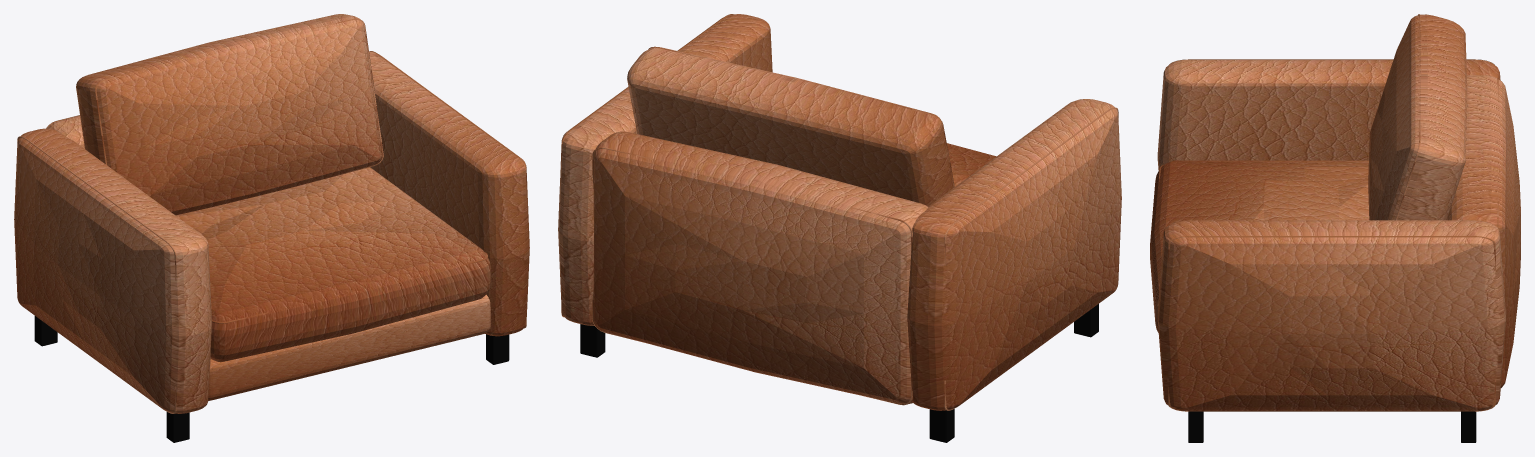
The model's file is Armchair.obj.
3 renders of one model, left to right at view 1: azimuth 30°, elevation 25°; view 2: azimuth 150°, elevation 25°; view 3: azimuth 270°, elevation 25°, orthographic. The views are drawn at different scales.
Parts seen in each view (by area): view 1: fotel_Cube_7, fotel_Cube2, fotel_Cube_2, fotel_Cube_3, fotel_Cube_4, fotel_Cube_14_Cube_12, fotel_Cube_14, fotel_Cube_7_Cube5, fotel_Cube_5, fotel_Cube_14_Cube_13; view 2: fotel_Cube_5, fotel_Cube_2, fotel_Cube_7, fotel_Cube_3, fotel_Cube2, fotel_Cube_14_Cube_13, fotel_Cube_14_Cube_15, fotel_Cube_2_Cube4, fotel_Cube_14_Cube_12, fotel_Cube_5_Cube; view 3: fotel_Cube_3, fotel_Cube_2, fotel_Cube_7, fotel_Cube2, fotel_Cube_5, fotel_Cube_3_Cube1, fotel_Cube_14, fotel_Cube_14_Cube_15.
Part boxes in pixels (x1,y1,x2,y2): fotel_Cube_7: (76,14,382,215); fotel_Cube2: (176,167,490,362); fotel_Cube_2: (14,128,211,413); fotel_Cube_3: (369,51,529,336); fotel_Cube_4: (208,294,490,400); fotel_Cube_14_Cube_12: (166,412,189,442); fotel_Cube_14: (486,334,509,364); fotel_Cube_7_Cube5: (95,18,383,175); fotel_Cube_5: (47,115,84,148); fotel_Cube_14_Cube_13: (34,316,57,346); fotel_Cube_5: (593,131,928,403); fotel_Cube_2: (907,99,1121,410); fotel_Cube_7: (627,47,953,206); fotel_Cube_3: (558,14,772,325); fotel_Cube2: (946,143,996,186); fotel_Cube_14_Cube_13: (929,408,954,442); fotel_Cube_14_Cube_15: (580,324,605,357); fotel_Cube_2_Cube4: (944,107,1118,410); fotel_Cube_14_Cube_12: (1074,304,1098,337); fotel_Cube_5_Cube: (592,147,912,405); fotel_Cube_3: (1157,220,1505,410); fotel_Cube_2: (1157,60,1500,170); fotel_Cube_7: (1368,14,1467,220); fotel_Cube2: (1150,160,1369,332); fotel_Cube_5: (1447,75,1520,387); fotel_Cube_3_Cube1: (1167,236,1495,411); fotel_Cube_14: (1188,411,1203,442); fotel_Cube_14_Cube_15: (1461,411,1476,442).
Size of the model in its own units: 62.85 by 42.59 by 50.72.
Materials: 3 (2 with a texture image).
